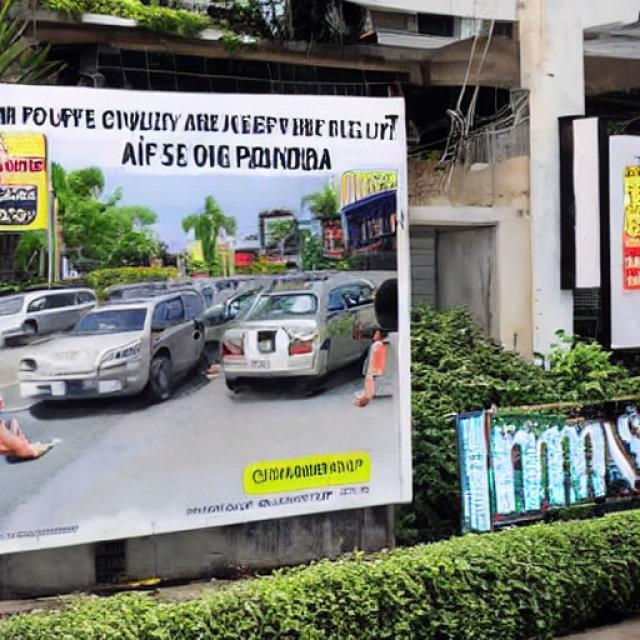Billboard: (0, 83, 417, 560)
